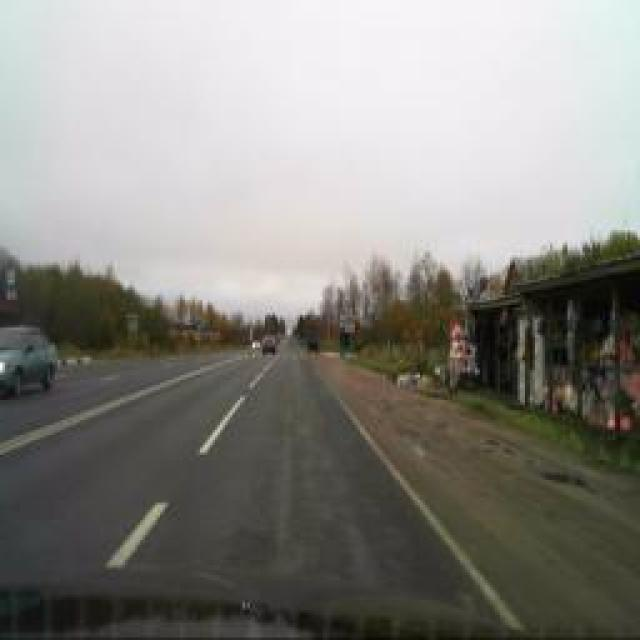sign: (345, 314, 355, 331), (128, 315, 138, 330)
